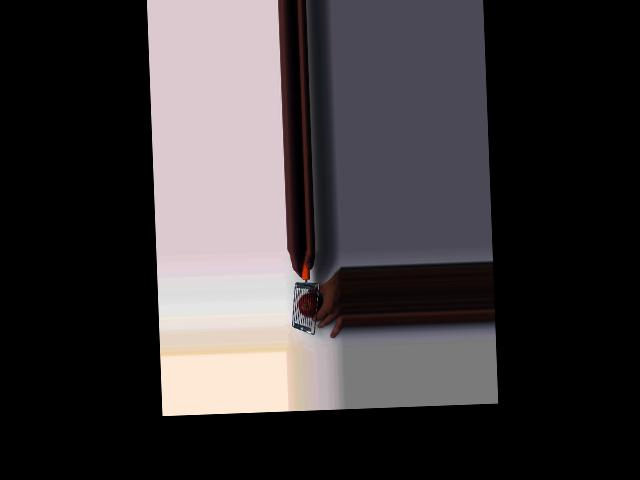tomato: (298, 292, 321, 317)
